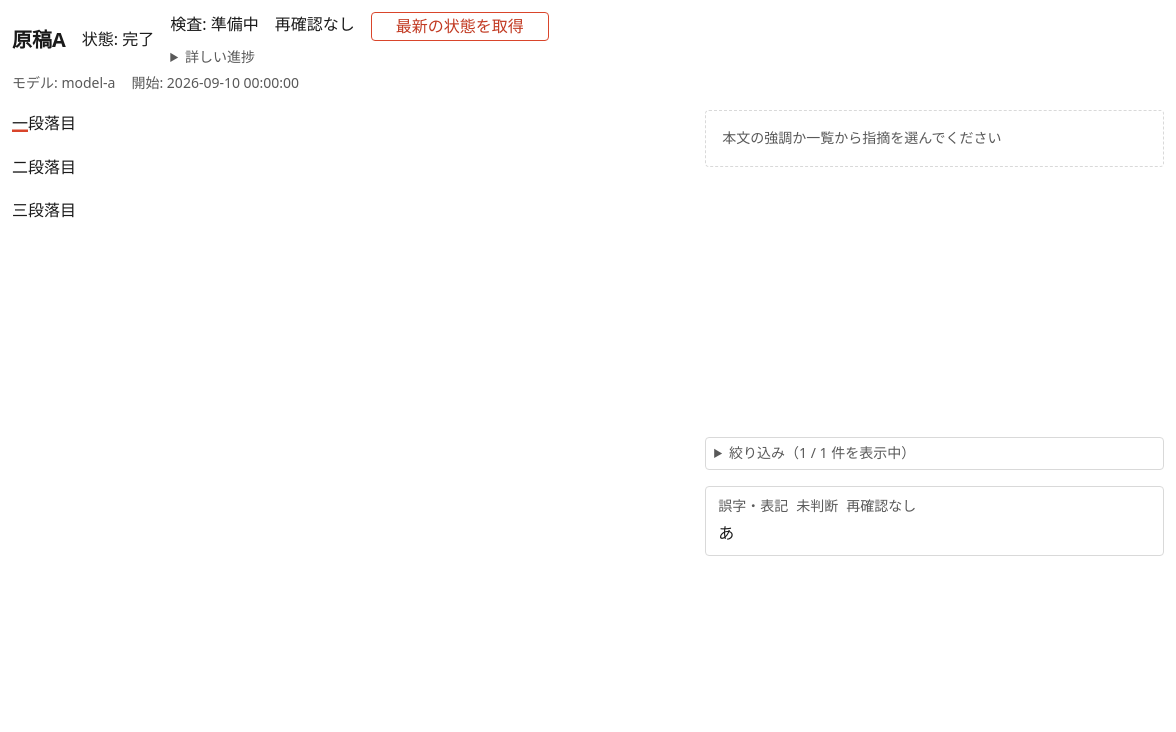
Test case: ResultsPage: Task 7 指摘詳細の取得配線 › 取得前（getFinding が未解決）でも、一覧が持つ情報から引用と理由が出る
Expected: the text "1 / 1 件" is shown, [799, 443, 845, 462]
Click the button "誤字・表記 未判断 再確認なし あ" at x=753, y=505, box [705, 486, 1164, 556]
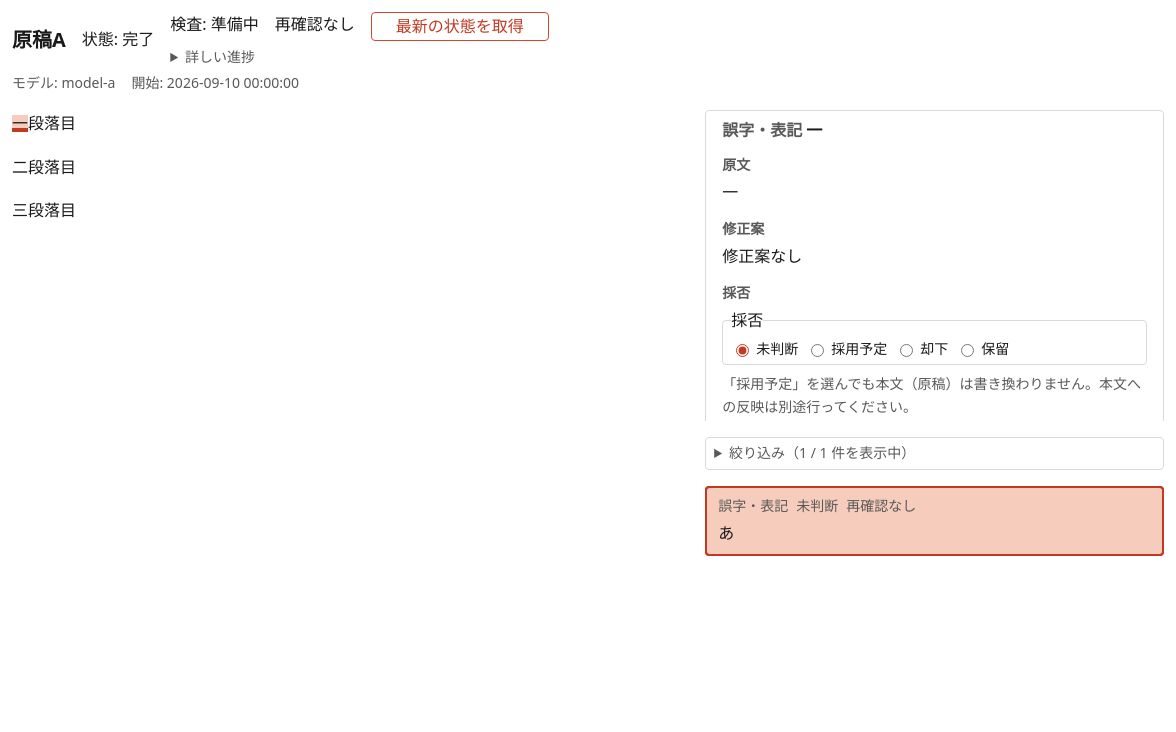
Expected: the text "一" below "原文" is shown, [722, 184, 738, 201]
